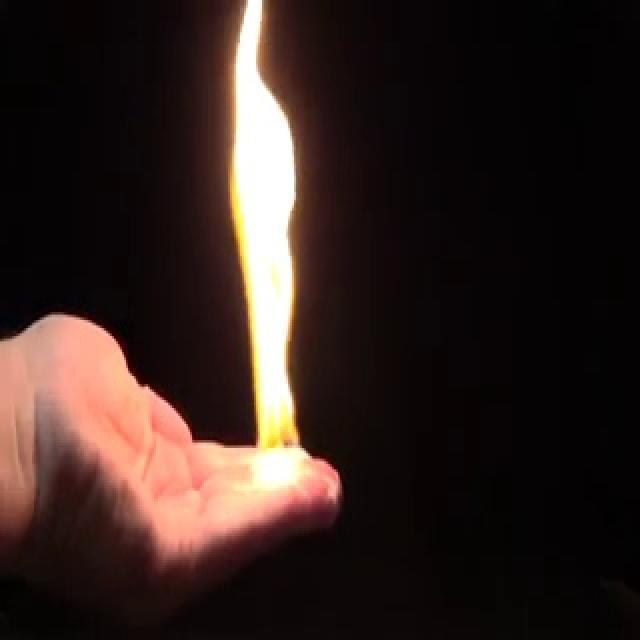fire: (214, 0, 312, 499)
